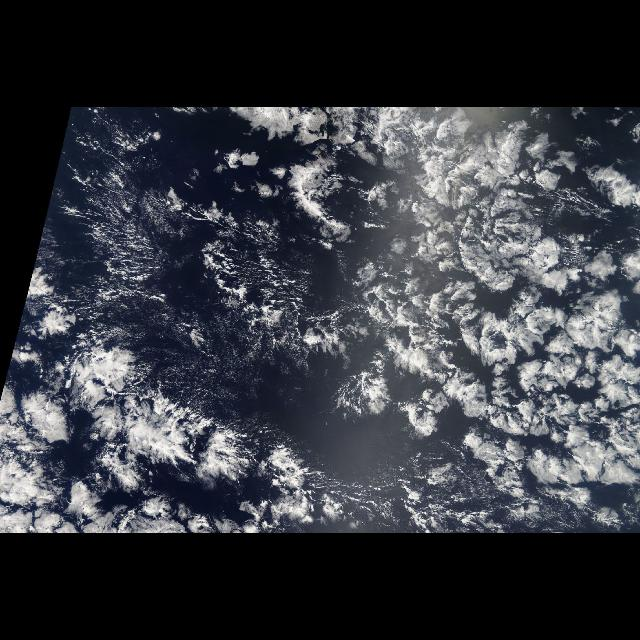Flower: (341, 108, 639, 496), (0, 310, 292, 530)
